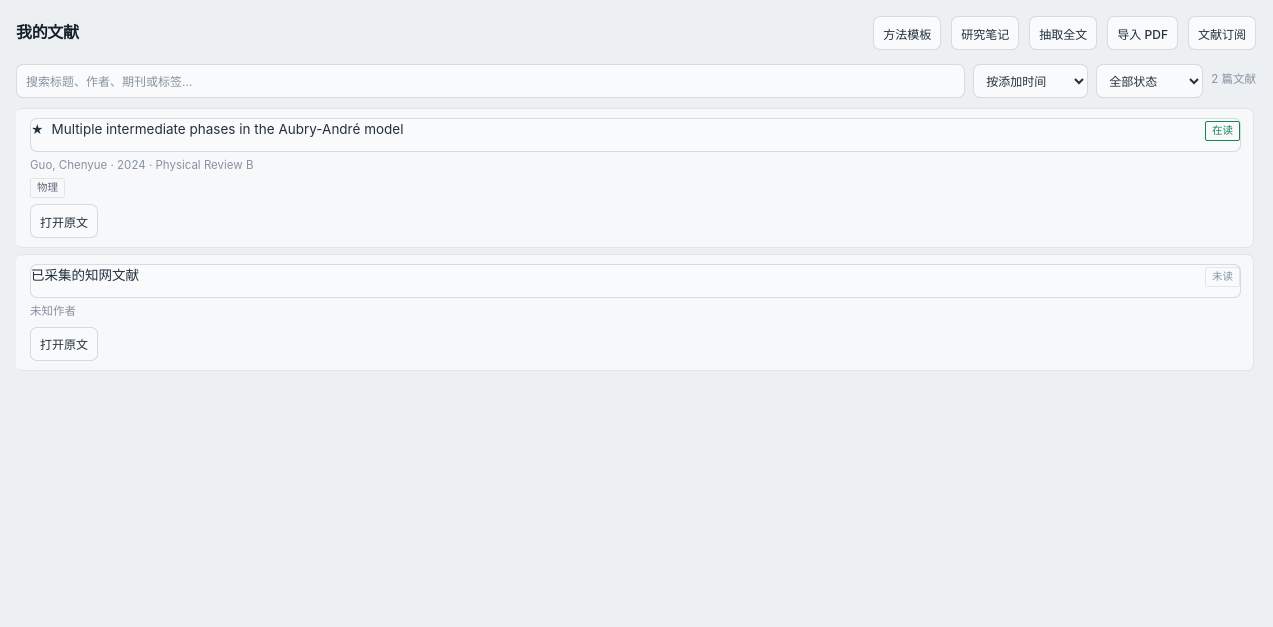
Test: LibraryPage — 我的文献 › 点击无 PDF 条目打开题录详情并展示全部字段
What coordinates should you click on to do the following:
click the button "已采集的知网文献 未读"
I would click on:
 (85, 275)
Its box is [30, 264, 1241, 298].
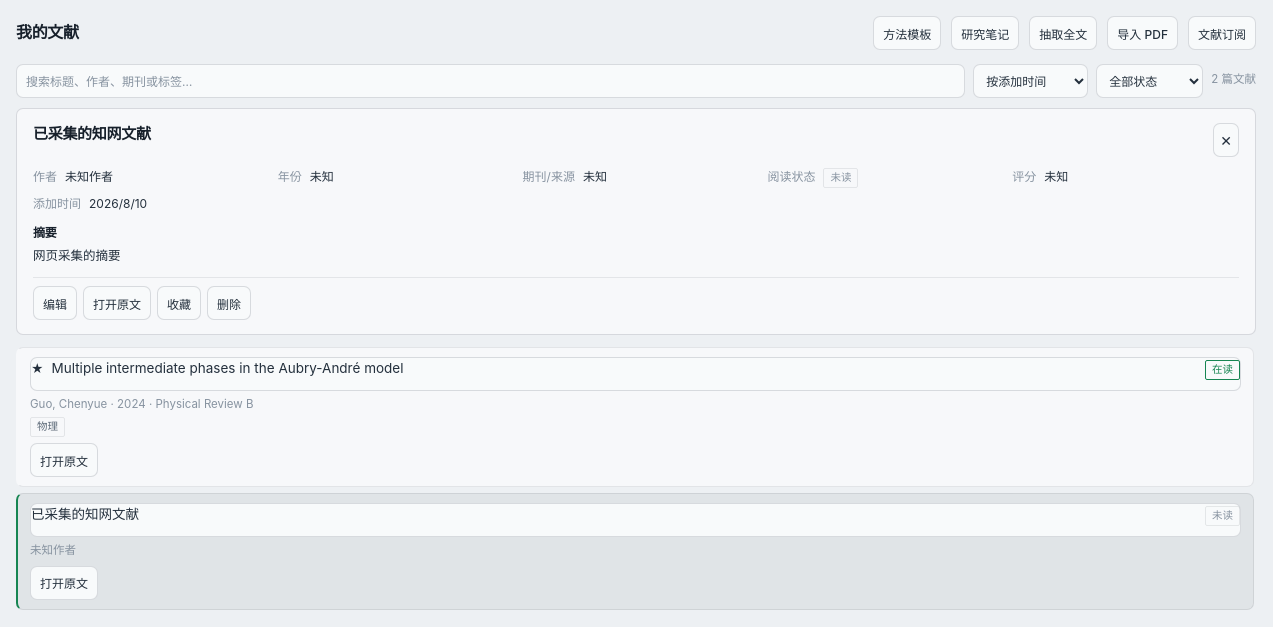
Result: the element with test id "library-detail" is shown at [16, 108, 1256, 335]
Result: the element with test id "library-detail" shows "已采集的知网文献" at [33, 124, 151, 143]
Result: the element with test id "library-detail" shows "未知作者" at [65, 169, 113, 184]
